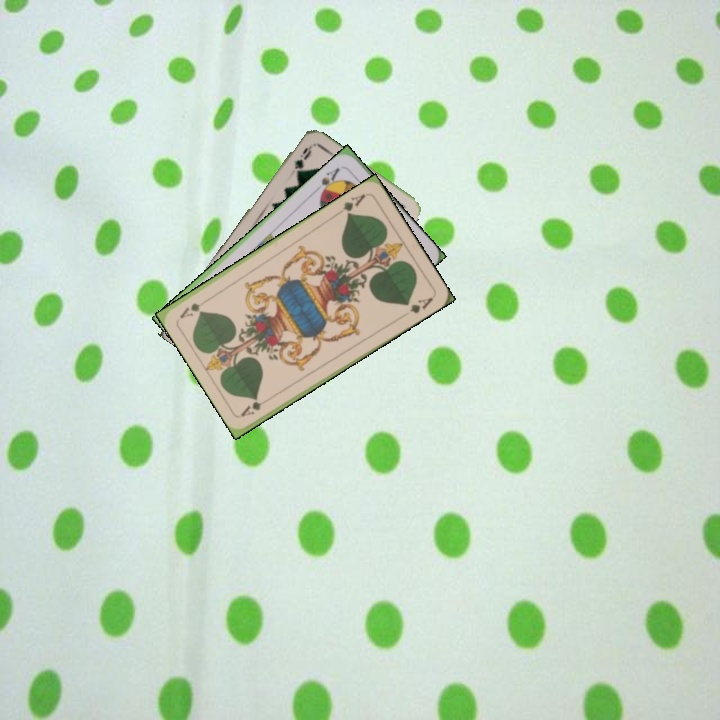G9: (290, 142, 315, 172)
GA: (237, 392, 275, 419), (333, 190, 368, 219)
SA: (312, 164, 343, 198)
